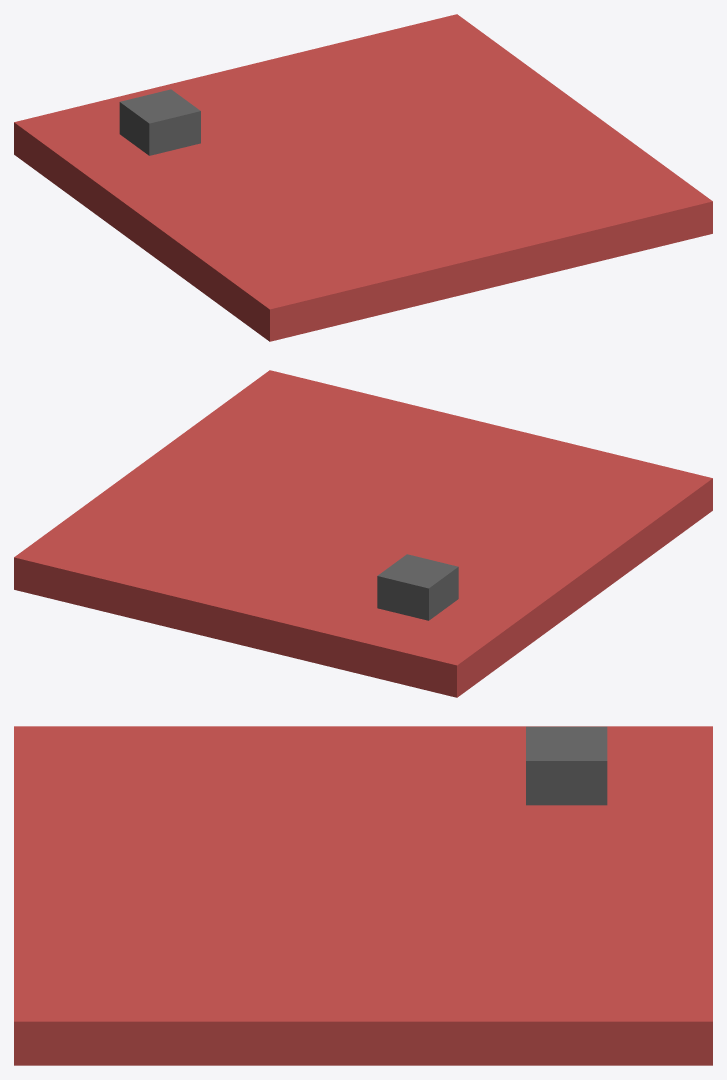
The model's file is RoofFlat.fbx.
The picture shows the model from 3 angles, top to bottom: view 1: azimuth 30°, elevation 25°; view 2: azimuth 150°, elevation 25°; view 3: azimuth 270°, elevation 25°; orthographic projection. The views are drawn at different scales.
Parts seen in each view (by area): view 1: RoofFlat; view 2: RoofFlat; view 3: RoofFlat.
Boxes of the visible parts, x1,y1,x2,y2 form: RoofFlat: [14, 14, 712, 341]; RoofFlat: [14, 370, 712, 697]; RoofFlat: [14, 726, 712, 1065].
Size of the model in its own units: 860 by 120 by 860.
